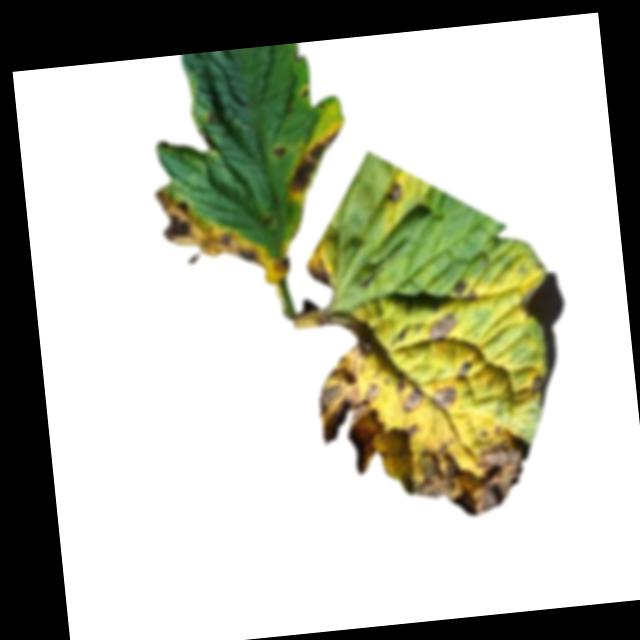Early_blight: (395, 423, 543, 523), (155, 178, 263, 276), (314, 351, 390, 478), (282, 123, 351, 200), (317, 304, 380, 356), (425, 311, 461, 343), (303, 254, 330, 292), (400, 385, 426, 415), (453, 277, 481, 304), (429, 384, 458, 410), (271, 250, 293, 274), (455, 360, 474, 382), (527, 372, 546, 394), (386, 180, 402, 201), (271, 140, 286, 161)
